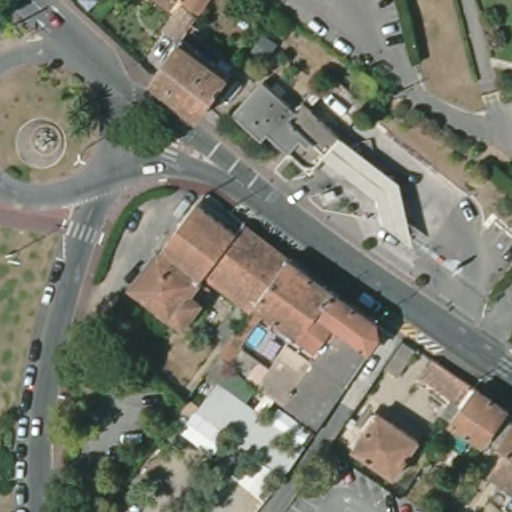pool: (245, 323, 268, 348)
